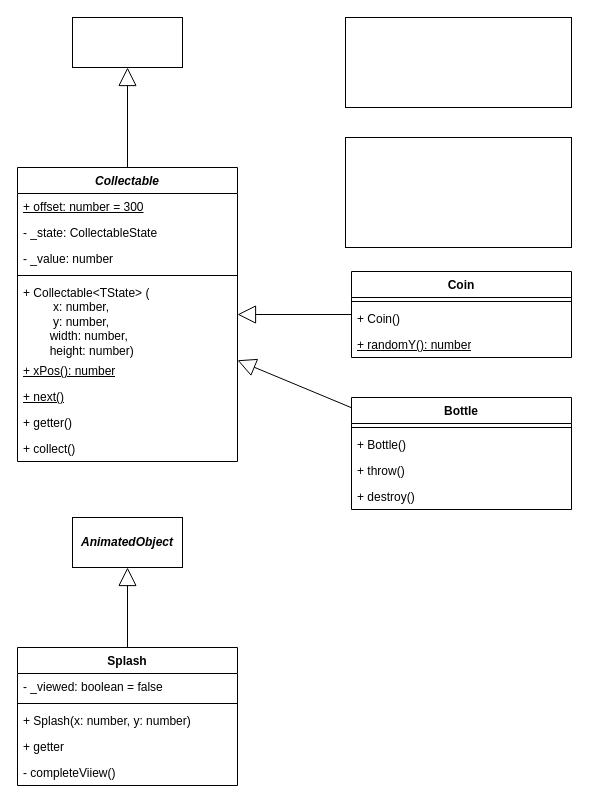
The diagram is 589 pixels wide and 806 high, and some of its shapes have lost their labels. Each missing label, with the centre of its shape:
<<Enumeration>> BottleSate idle collected thrown destroyed: [458,192]
<<Enumeration>> CoinSate idle collected: [458,62]
TouchingObject: [127,42]
